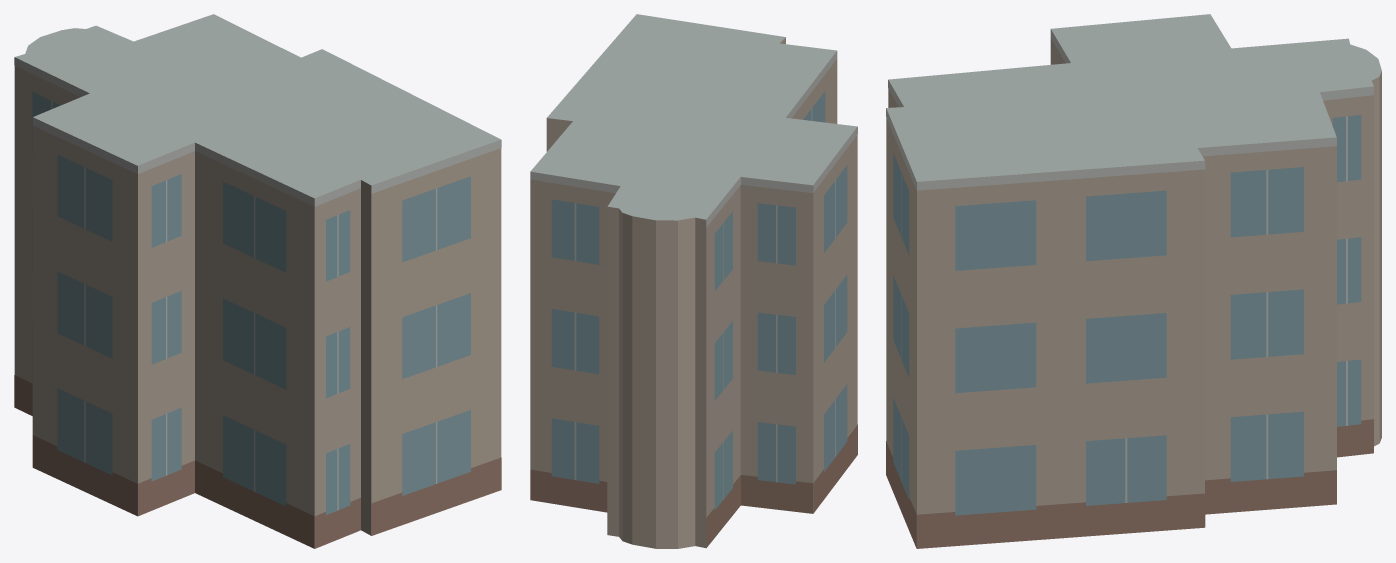
File: survey-upis-32899828.glb
3 renders of one model, left to right at view 1: azimuth 30°, elevation 25°; view 2: azimuth 150°, elevation 25°; view 3: azimuth 270°, elevation 25°, orthographic. The views are drawn at different scales.
Parts seen in each view (by area): view 1: survey-upis-32899828.tmp; view 2: survey-upis-32899828.tmp; view 3: survey-upis-32899828.tmp.
Boxes of the visible parts, box(x1,y1,x2,y2) form: survey-upis-32899828.tmp: box(14, 14, 501, 548); survey-upis-32899828.tmp: box(530, 14, 857, 548); survey-upis-32899828.tmp: box(886, 14, 1381, 548).
Bounding box in the file's own units: 10.02 × 10.2 × 12.49.
